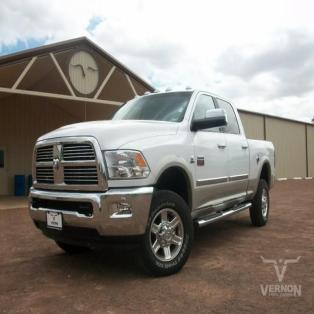Auto: (26, 83, 276, 274)
